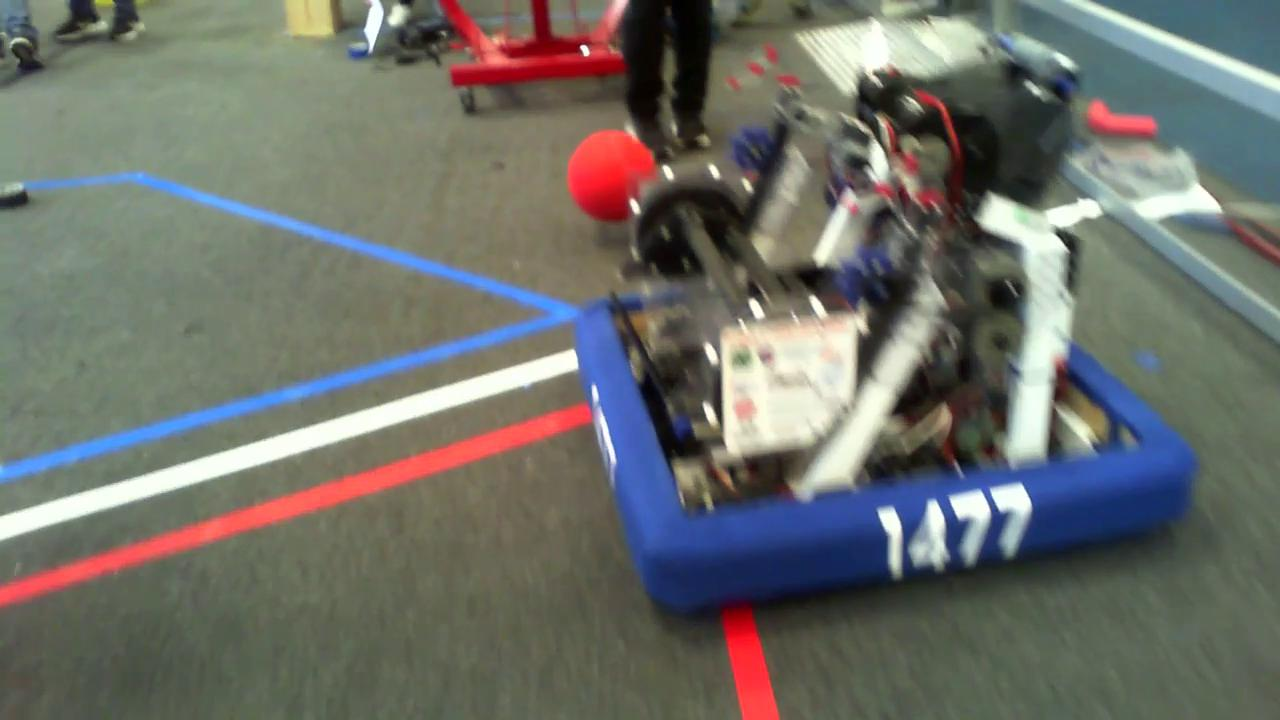Red_Ball: (563, 123, 669, 225)
